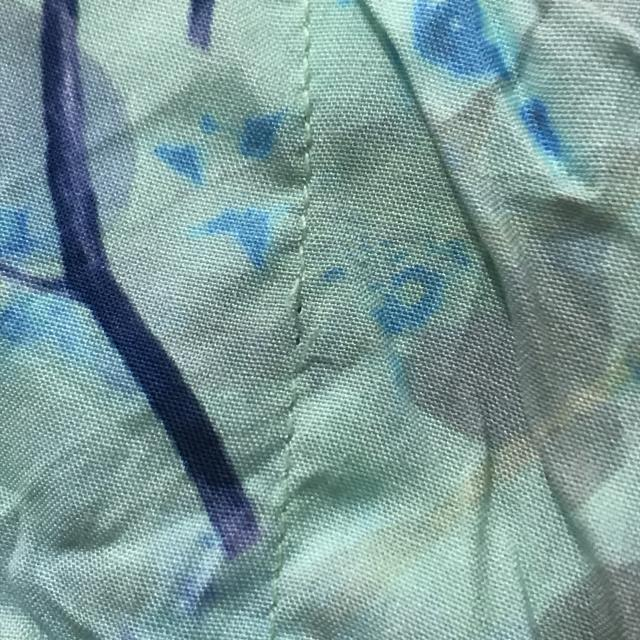broken: (272, 240, 336, 391)
